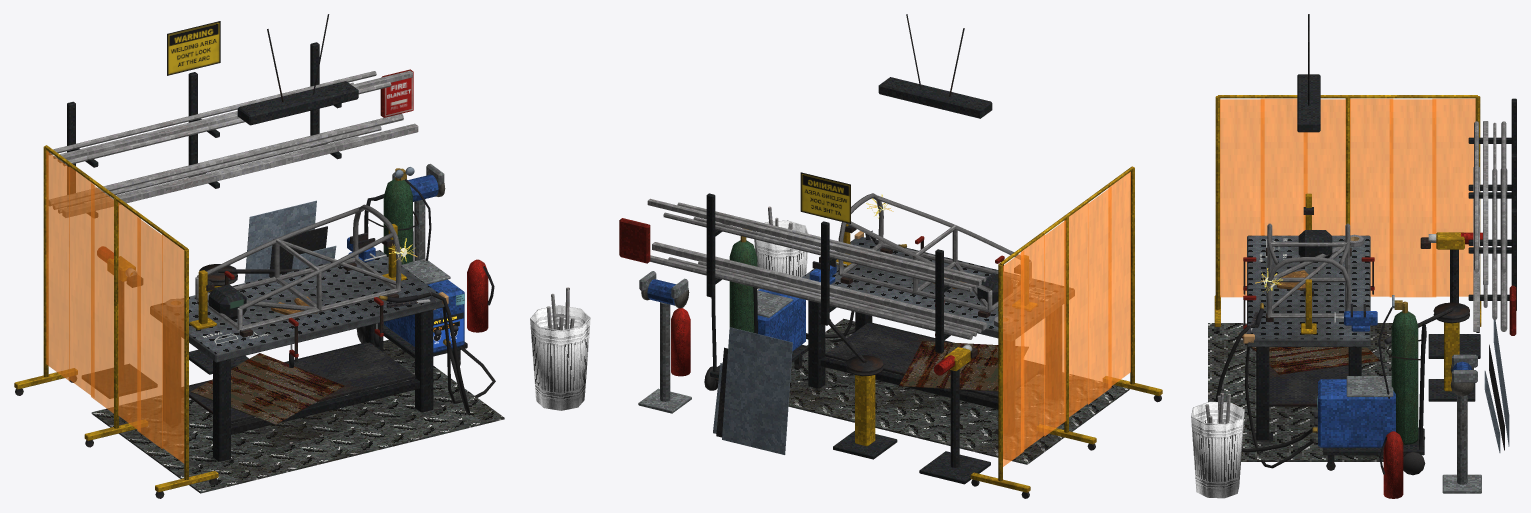
Rendered from station_fab.glb.
The picture shows the model from 3 angles, left to right: view 1: azimuth 30°, elevation 25°; view 2: azimuth 150°, elevation 25°; view 3: azimuth 270°, elevation 25°; orthographic projection. The views are drawn at different scales.
Visible parts, largest first — view 1: Fab_FloorPlate, Fab_TableTop, Fab_Curtain_4, Fab_OffcutBin, scrap, Fab_Curtain_0, Fab_Curtain_1, Fab_Curtain_2, Fab_Curtain_5, Fab_Curtain_3, Fab_TableShelf, Fab_Stock_3 (+35 smaller); view 2: Fab_FloorPlate, Fab_Sheet_0, Fab_TableTop, Fab_Curtain_4, Fab_Curtain_1, Fab_Curtain_2, Fab_Curtain_0, Fab_Curtain_5, Fab_Curtain_3, scrap, Fab_TableShelf, Fab_Stock_3 (+36 smaller); view 3: Fab_Curtain_1, Fab_TableTop, Fab_FloorPlate, Fab_Curtain_5, Fab_Curtain_2, Fab_Curtain_0, Fab_Curtain_4, Fab_Curtain_3, Fab_OffcutBin, Fab_Welder, Fab_Bottle, Fab_TableShelf (+40 smaller).
Part boxes in pixels (x1,y1,x2,y2): Fab_FloorPlate: [91, 340, 504, 493]; Fab_TableTop: [150, 250, 444, 362]; Fab_Curtain_4: [137, 217, 162, 448]; Fab_OffcutBin: [530, 305, 590, 410]; scrap: [191, 353, 344, 424]; Fab_Curtain_0: [46, 150, 69, 381]; Fab_Curtain_1: [69, 166, 94, 396]; Fab_Curtain_2: [91, 183, 113, 413]; Fab_Curtain_5: [162, 234, 184, 463]; Fab_Curtain_3: [118, 202, 140, 431]; Fab_TableShelf: [181, 342, 415, 423]; Fab_Stock_3: [62, 123, 418, 217]; Fab_FloorPlate: [788, 318, 1129, 464]; Fab_Sheet_0: [722, 327, 792, 454]; Fab_TableTop: [802, 237, 1074, 341]; Fab_Curtain_4: [1088, 187, 1111, 404]; Fab_Curtain_1: [1021, 234, 1044, 451]; Fab_Curtain_2: [1044, 220, 1066, 436]; Fab_Curtain_0: [1003, 251, 1024, 466]; Fab_Curtain_5: [1108, 171, 1130, 387]; Fab_Curtain_3: [1064, 203, 1088, 417]; scrap: [899, 341, 1028, 391]; Fab_TableShelf: [825, 323, 1044, 398]; Fab_Stock_3: [652, 242, 986, 330]; Fab_Curtain_1: [1389, 99, 1436, 297]; Fab_TableTop: [1247, 235, 1370, 346]; Fab_FloorPlate: [1208, 323, 1403, 461]; Fab_Curtain_5: [1220, 99, 1264, 297]; Fab_Curtain_2: [1350, 98, 1392, 296]; Fab_Curtain_0: [1432, 98, 1475, 296]; Fab_Curtain_4: [1261, 98, 1306, 235]; Fab_Curtain_3: [1303, 99, 1350, 235]; Fab_OffcutBin: [1191, 401, 1244, 498]; Fab_Welder: [1318, 379, 1395, 447]; Fab_Bottle: [1391, 311, 1418, 444]; Fab_TableShelf: [1269, 365, 1348, 406].
Size of the model in its own units: 3.53 by 3.12 by 2.51.
32 materials, 27 textured.
